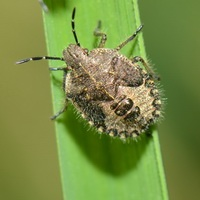insect: (16, 7, 160, 138)
